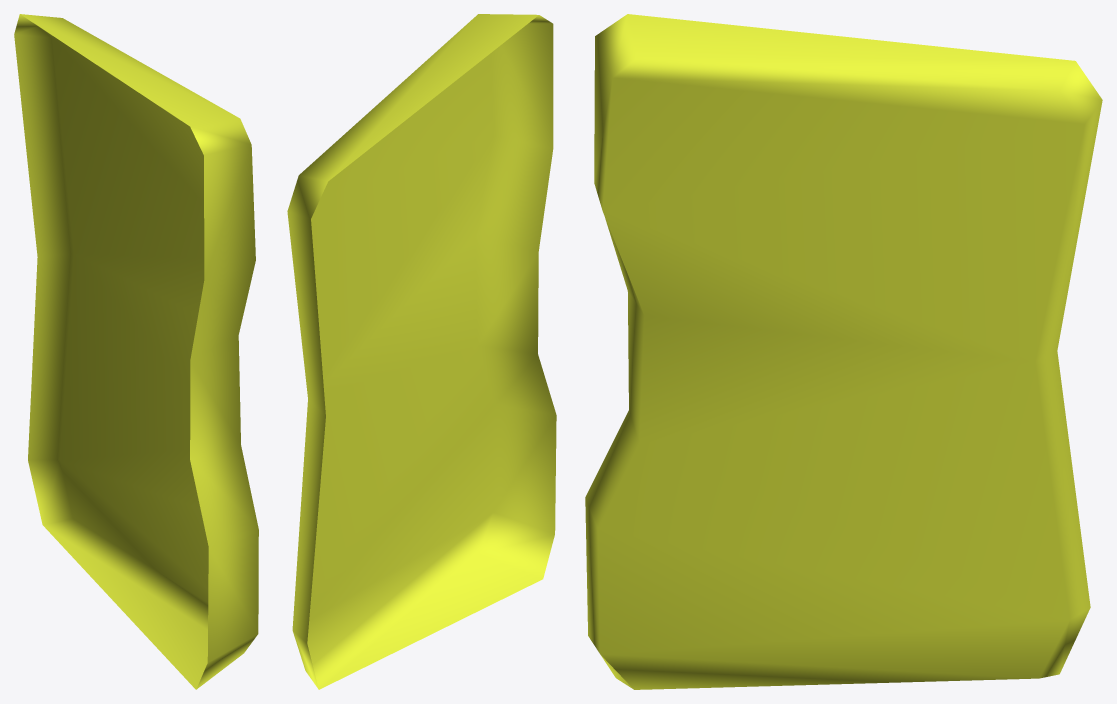
The model's file is b_polySurface593_b_BMW_i8Elite_2_564.glb.
The picture shows the model from 3 angles, left to right: view 1: azimuth 30°, elevation 25°; view 2: azimuth 150°, elevation 25°; view 3: azimuth 270°, elevation 25°; orthographic projection. The views are drawn at different scales.
Parts seen in each view (by area): view 1: b:polySurface593_b:BMW_i8Elite_2017CalliperGloss_Material1_0; view 2: b:polySurface593_b:BMW_i8Elite_2017CalliperGloss_Material1_0; view 3: b:polySurface593_b:BMW_i8Elite_2017CalliperGloss_Material1_0.
Boxes of the visible parts, x1,y1,x2,y2 form: b:polySurface593_b:BMW_i8Elite_2017CalliperGloss_Material1_0: (14, 14, 258, 689); b:polySurface593_b:BMW_i8Elite_2017CalliperGloss_Material1_0: (287, 14, 556, 689); b:polySurface593_b:BMW_i8Elite_2017CalliperGloss_Material1_0: (585, 14, 1102, 689).
Size of the model in its own units: 0.0129 by 0.1211 by 0.0856.
